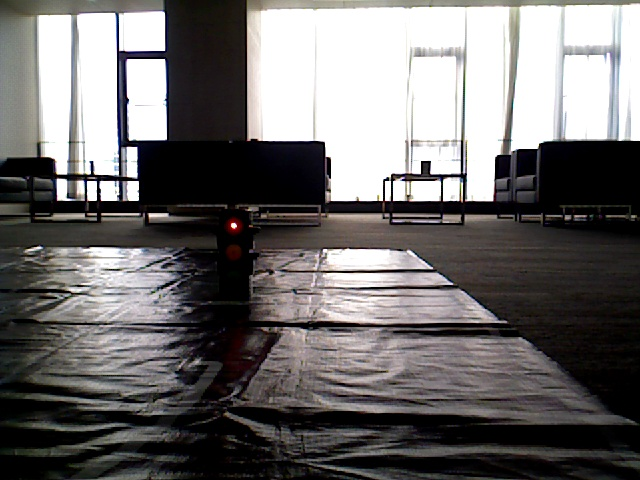red: (214, 208, 248, 299)
